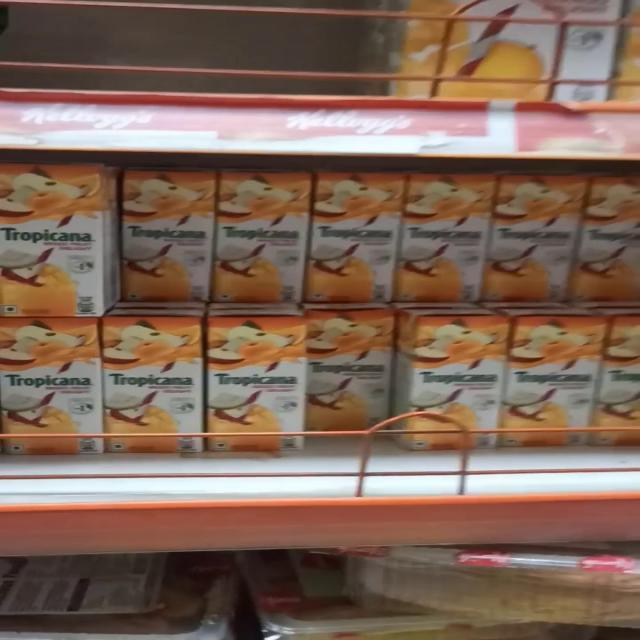Tropicana: (0, 154, 104, 316), (202, 308, 308, 452), (0, 320, 111, 452), (113, 165, 214, 304), (99, 317, 203, 448), (402, 165, 502, 298), (505, 314, 605, 446), (222, 162, 312, 305), (317, 164, 407, 304), (503, 168, 597, 294), (414, 311, 500, 446)
